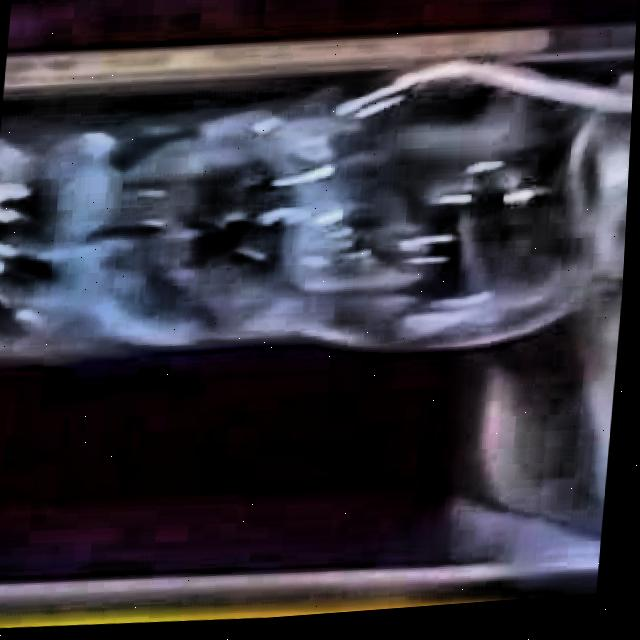plastic: (0, 69, 634, 364)
